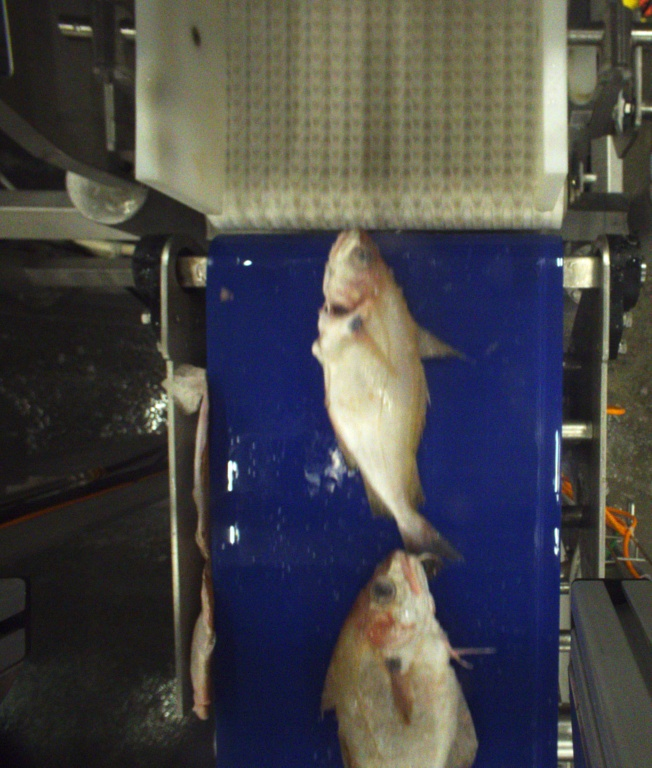BIB: (318, 231, 474, 573)
